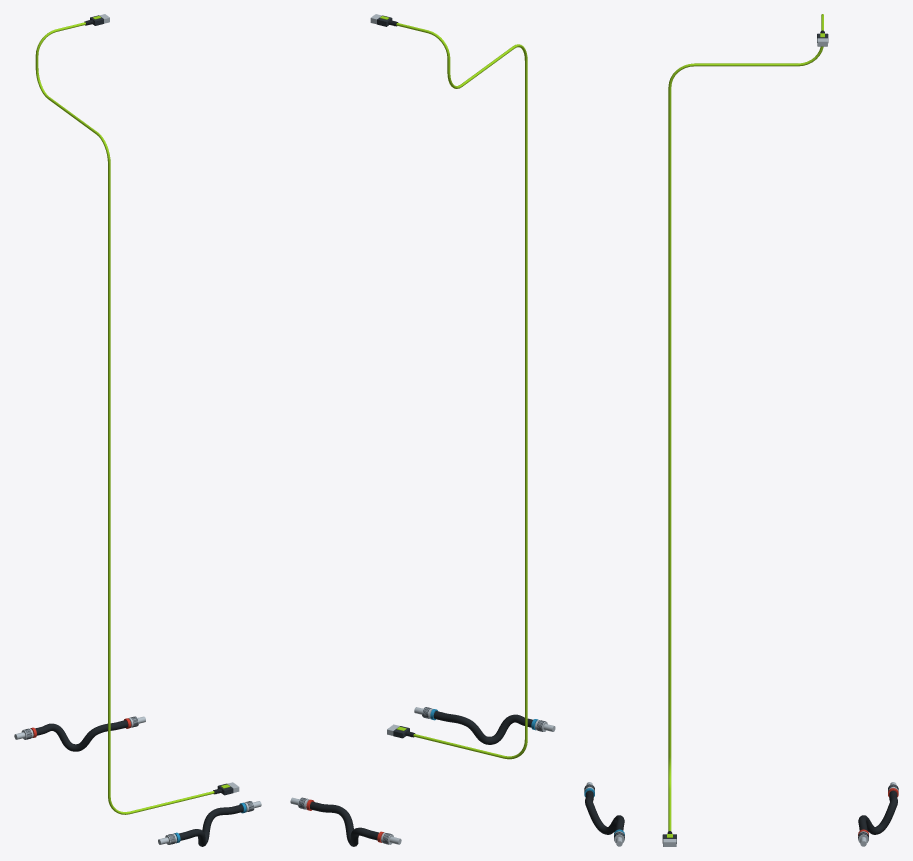
Rendered from SM_GJ_Harness_03.fbx.
The picture shows the model from 3 angles, left to right: view 1: azimuth 30°, elevation 25°; view 2: azimuth 150°, elevation 25°; view 3: azimuth 270°, elevation 25°; orthographic projection. The views are drawn at different scales.
Parts seen in each view (by area): view 1: SM_GJ_Harness_03; view 2: SM_GJ_Harness_03; view 3: SM_GJ_Harness_03.
Part boxes in pixels (x1,y1,x2,y2): SM_GJ_Harness_03: (14, 14, 261, 846); SM_GJ_Harness_03: (290, 14, 555, 846); SM_GJ_Harness_03: (584, 14, 898, 846).
Size of the model in its own units: 25.23 by 50.76 by 142.
